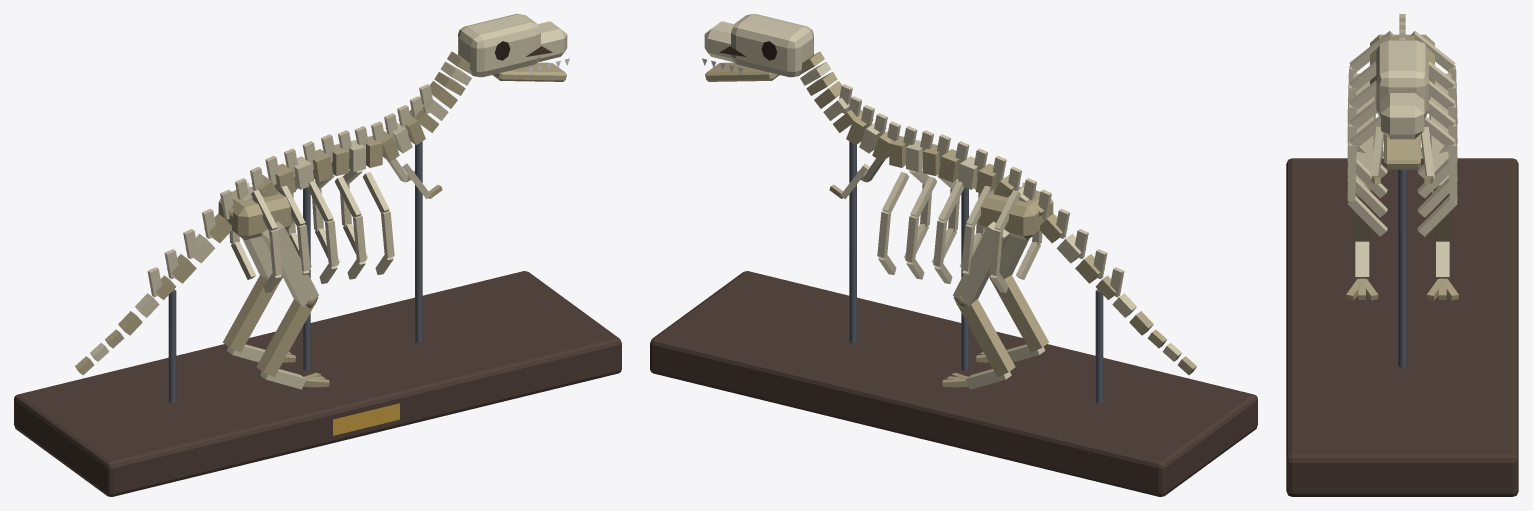
File: museum-deco1.glb
3 renders of one model, left to right at view 1: azimuth 30°, elevation 25°; view 2: azimuth 150°, elevation 25°; view 3: azimuth 270°, elevation 25°, orthographic. The views are drawn at different scales.
Parts seen in each view (by area): view 1: museum-deco1; view 2: museum-deco1; view 3: museum-deco1.
Boxes of the visible parts, left/top/right/bottom form: museum-deco1: left=14, top=14, right=621, bottom=496; museum-deco1: left=650, top=14, right=1257, bottom=496; museum-deco1: left=1286, top=14, right=1518, bottom=496.
Bounding box in the file's own units: 4.6 × 2.84 × 1.5.
